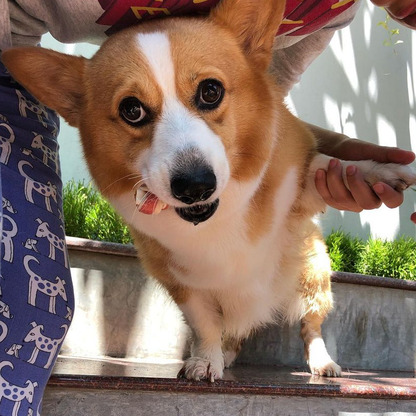Corgi: (34, 32, 372, 388)
